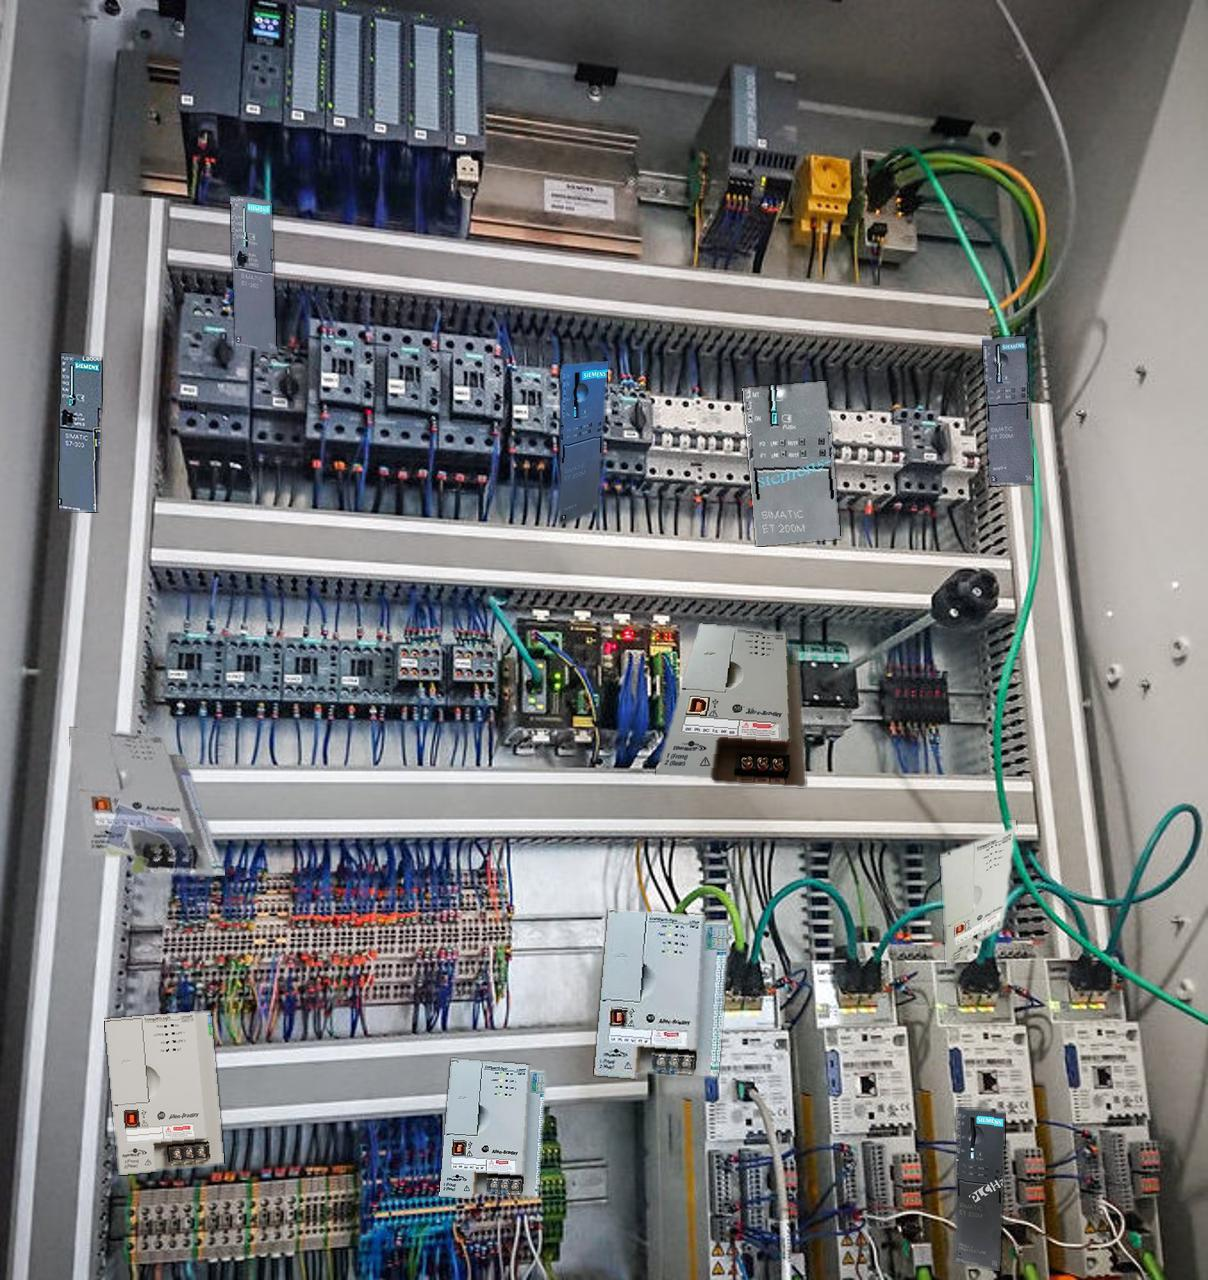AllenBradley: (656, 624, 805, 786), (69, 728, 224, 876), (594, 909, 728, 1078), (104, 1011, 223, 1174), (439, 1059, 545, 1198), (940, 820, 1015, 967)
Siemens: (230, 196, 276, 353), (59, 353, 101, 511)
